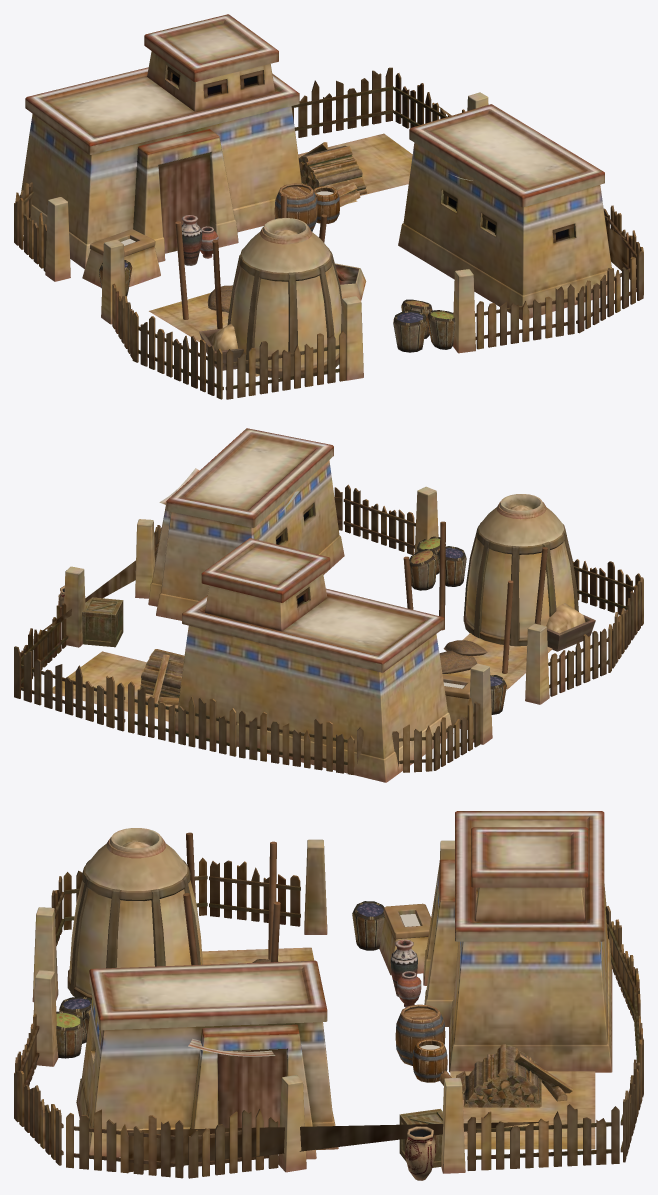
File: 3-towncenter.glb
The picture shows the model from 3 angles, top to bottom: view 1: azimuth 30°, elevation 25°; view 2: azimuth 150°, elevation 25°; view 3: azimuth 270°, elevation 25°; orthographic projection. The views are drawn at different scales.
Bounding box in the file's own units: 11.01 × 3.58 × 10.81.
Materials: 10 (8 with a texture image).
